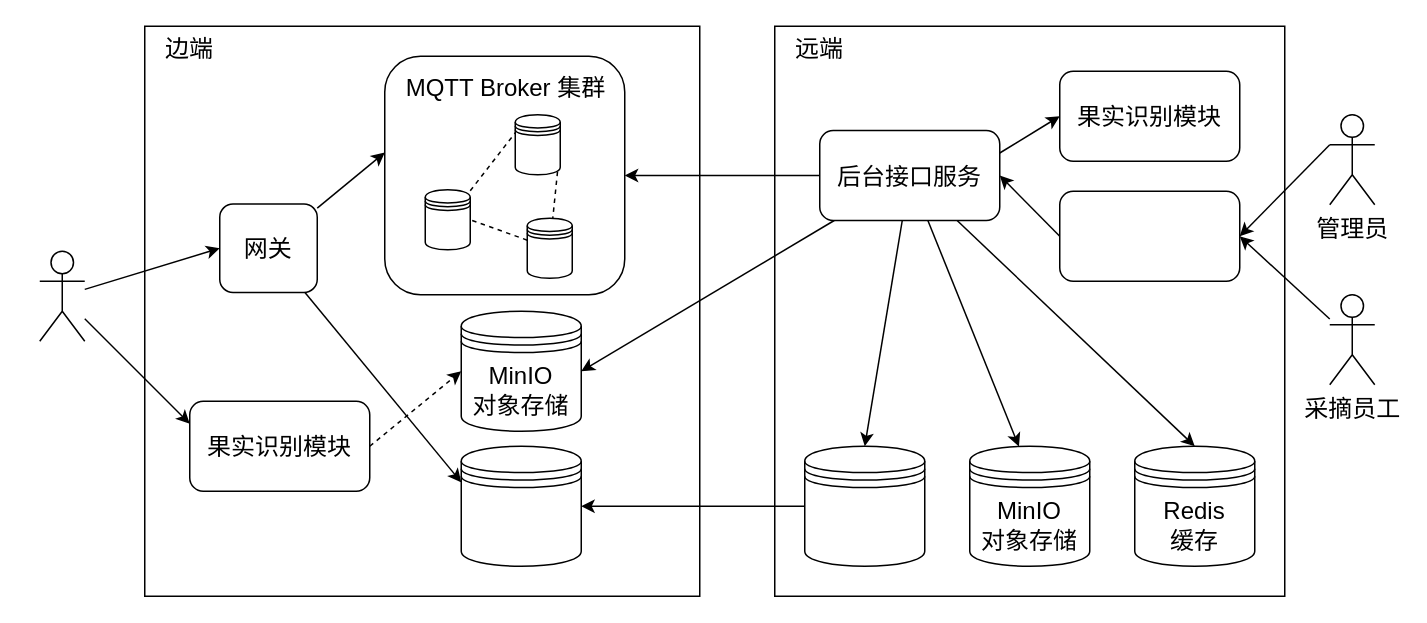
The diagram is 1427 pixels wide and 623 high, and some of its shapes have lost their labels. Here are the shapes that lost their labels. From the top down, the centre of each, then its label:
At point 1149,235: "后台管理界面".
At point 61,295: "电子秤".
At point 520,505: "MySQL 从库".
At point 864,505: "MySQL 主库".
